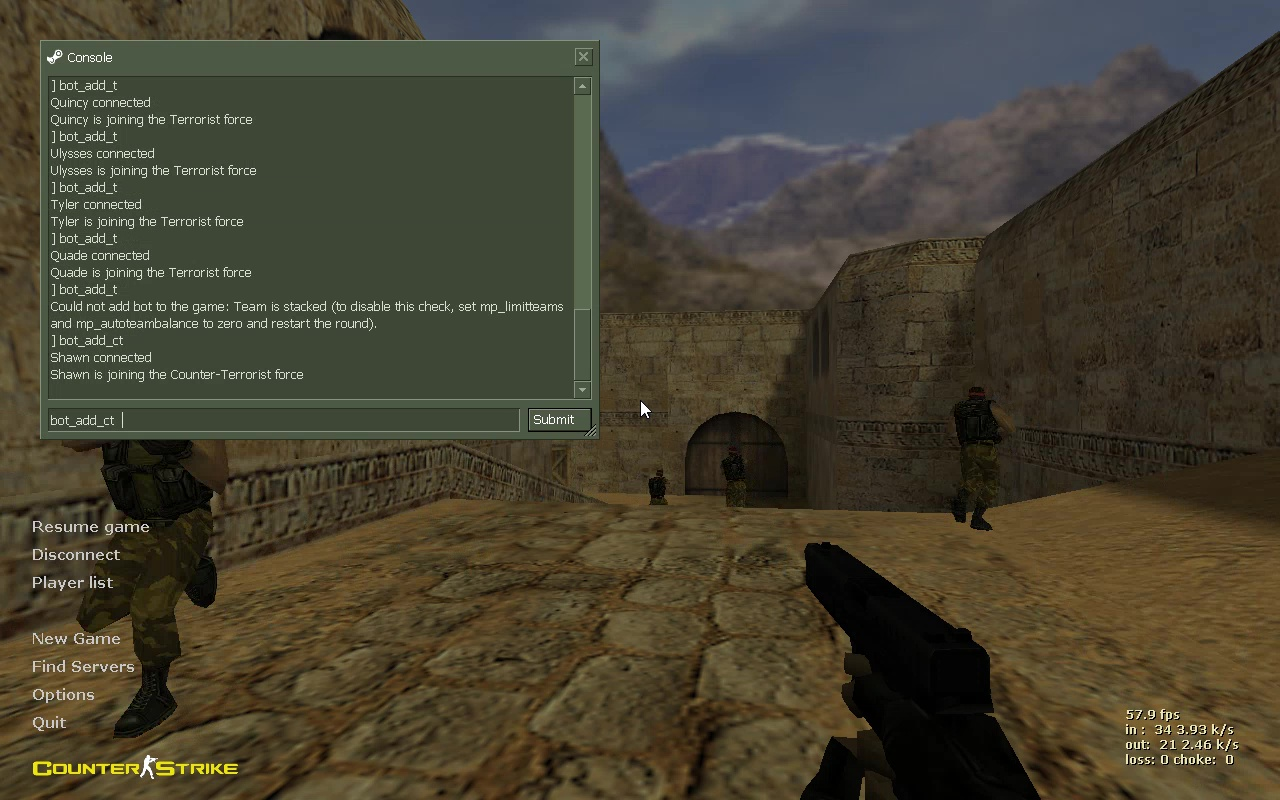terr1: (947, 385, 1015, 533), (721, 447, 750, 508), (646, 472, 672, 506)
